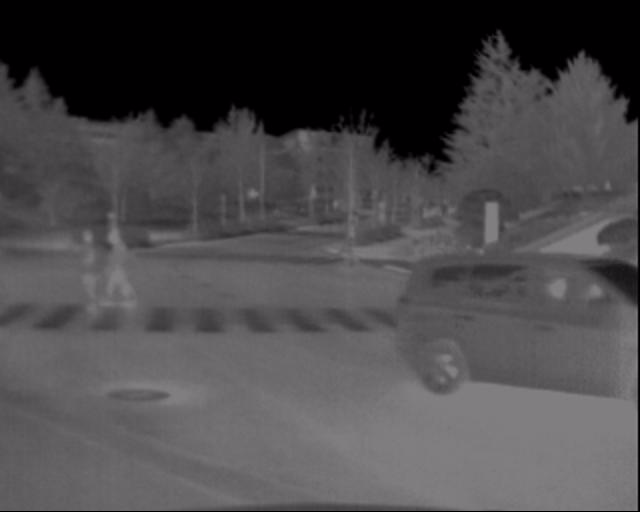person: (50, 218, 131, 322), (335, 221, 355, 265), (100, 214, 120, 253)
